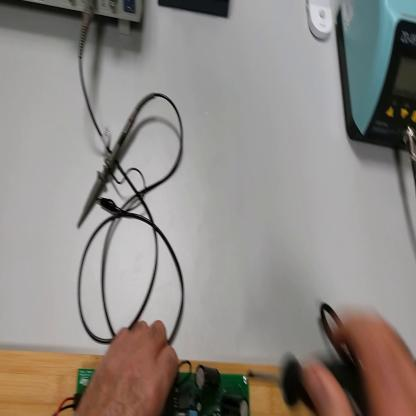hand: (303, 312, 416, 416), (78, 320, 180, 413)
high voltage board: (51, 358, 249, 416)
oscilloscope: (22, 2, 145, 34)
oscilloscope probe tip: (80, 97, 149, 231)
screwdriver-: (244, 340, 361, 410)
welder station: (335, 2, 416, 148)
working area: (2, 350, 311, 416)
